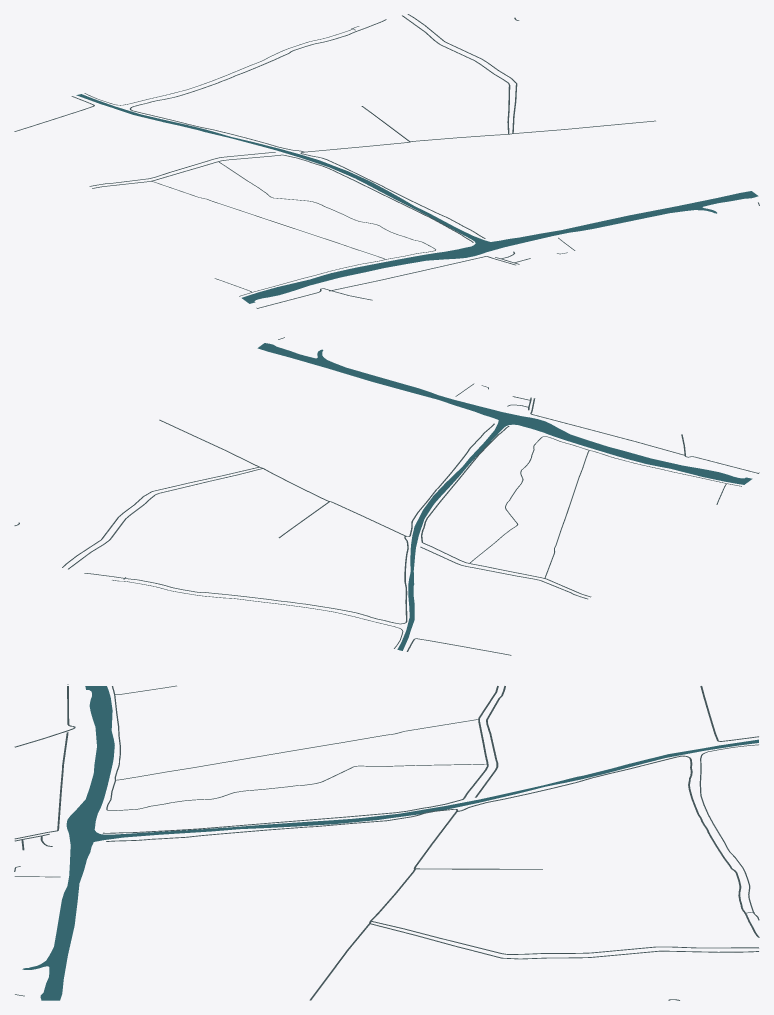
3 renders of one model, top to bottom at view 1: azimuth 30°, elevation 25°; view 2: azimuth 150°, elevation 25°; view 3: azimuth 270°, elevation 25°, orthographic. The views are drawn at different scales.
Parts seen in each view (by area): view 1: water, street; view 2: water, street; view 3: water, street.
Part boxes in pixels (x1,y1,x2,y2): water: [76, 94, 758, 303]; street: [14, 14, 759, 308]; water: [257, 343, 752, 650]; street: [14, 337, 759, 655]; water: [22, 686, 758, 1000]; street: [14, 684, 759, 1000].
Size of the model in its own units: 2004 by 6.42 by 2004.
